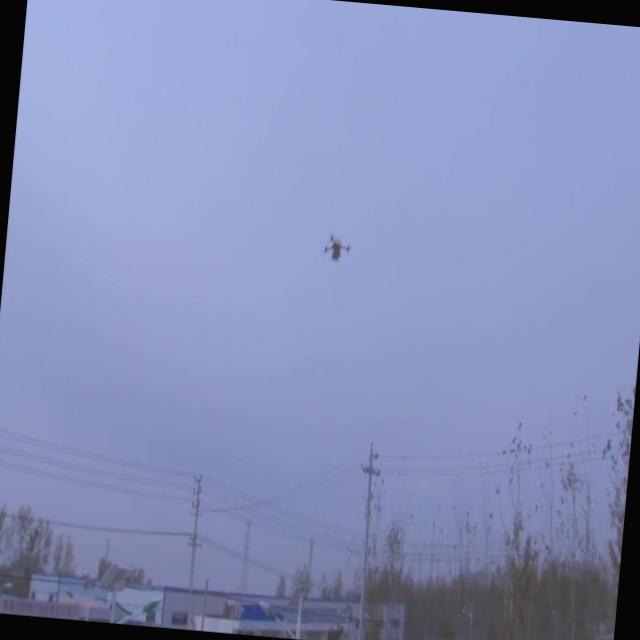drone: (322, 228, 354, 268)
